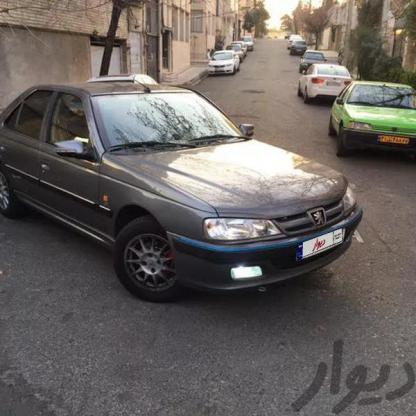Car: (0, 86, 352, 326), (334, 80, 416, 183), (297, 65, 354, 111), (297, 43, 342, 76), (208, 50, 243, 76), (237, 35, 260, 56), (287, 44, 306, 54)
